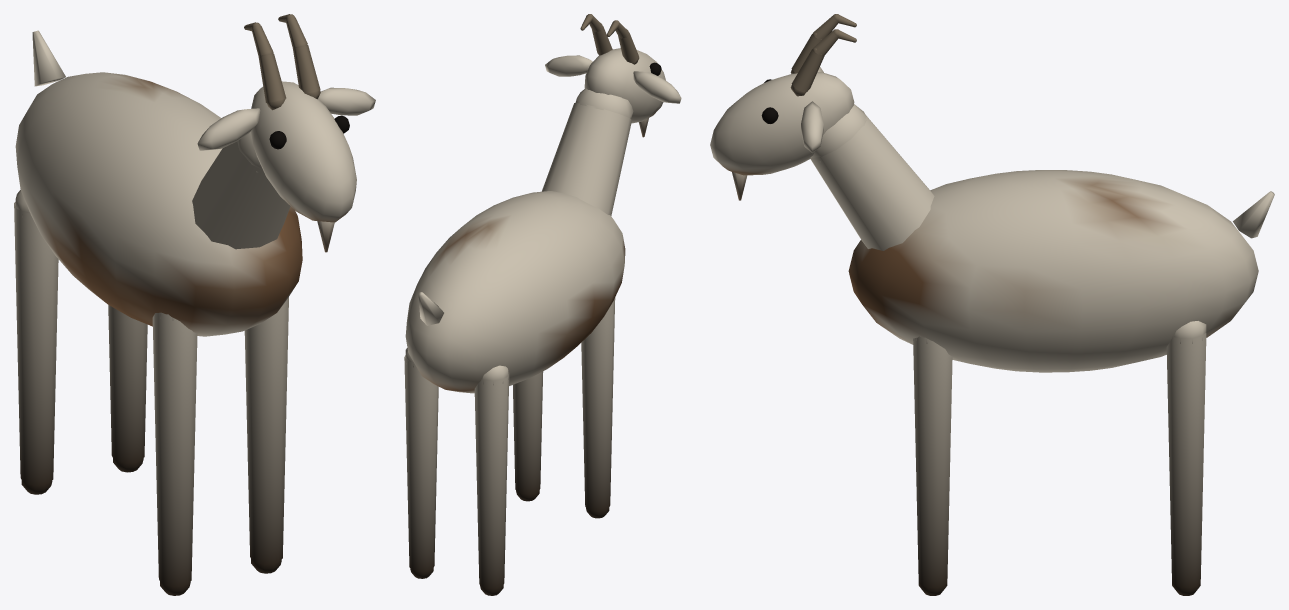
Rendered from Goat.glb.
3 renders of one model, left to right at view 1: azimuth 30°, elevation 25°; view 2: azimuth 150°, elevation 25°; view 3: azimuth 270°, elevation 25°, orthographic. The views are drawn at different scales.
Parts seen in each view (by area): view 1: GoatBody, GoatHead, LegFL, LegBL, LegFR, LegBR, Horns; view 2: GoatBody, GoatHead, LegBL, LegBR, LegFL, LegFR, Horns; view 3: GoatBody, GoatHead, LegBR, LegFR, Horns.
Part boxes in pixels (bbox=[...]): GoatBody: bbox=[15, 72, 302, 336]; GoatHead: bbox=[32, 30, 375, 252]; LegFL: bbox=[152, 312, 197, 595]; LegBL: bbox=[14, 190, 58, 494]; LegFR: bbox=[244, 297, 288, 573]; LegBR: bbox=[108, 305, 147, 472]; Horns: bbox=[244, 14, 320, 110]; GoatBody: bbox=[405, 191, 625, 393]; GoatHead: bbox=[418, 48, 681, 325]; LegBL: bbox=[474, 365, 509, 595]; LegBR: bbox=[404, 348, 438, 578]; LegFL: bbox=[581, 297, 615, 518]; LegFR: bbox=[513, 371, 543, 501]; Horns: bbox=[580, 14, 639, 64]; GoatBody: bbox=[848, 170, 1258, 372]; GoatHead: bbox=[710, 67, 1274, 250]; LegBR: bbox=[1166, 321, 1206, 595]; LegFR: bbox=[913, 336, 952, 595]; Horns: bbox=[790, 14, 856, 96].
Bounding box in the file's own units: 0.3213 × 1.01 × 0.9363.
